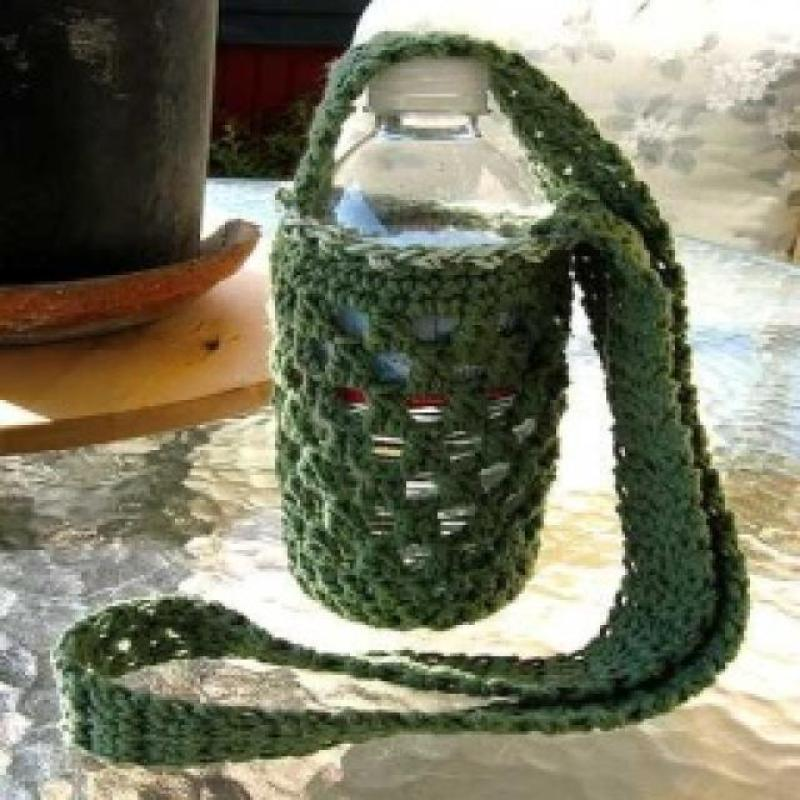botella: (306, 49, 560, 249)
